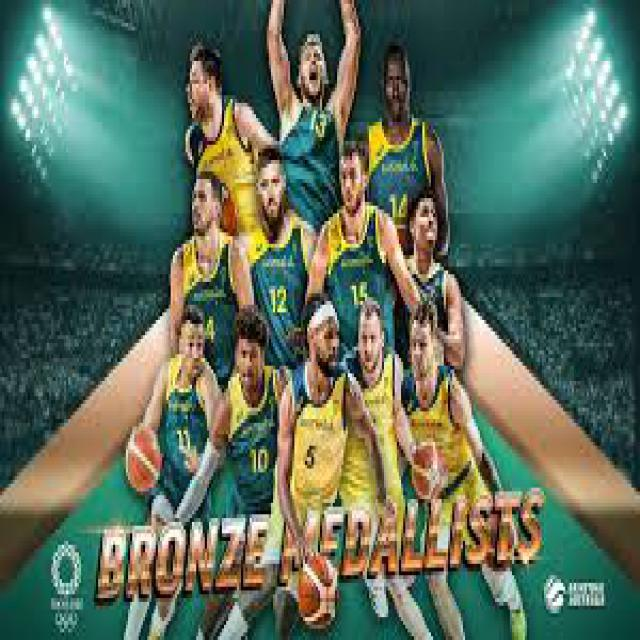basketball: (298, 556, 338, 632), (126, 431, 162, 492), (412, 442, 446, 499)
